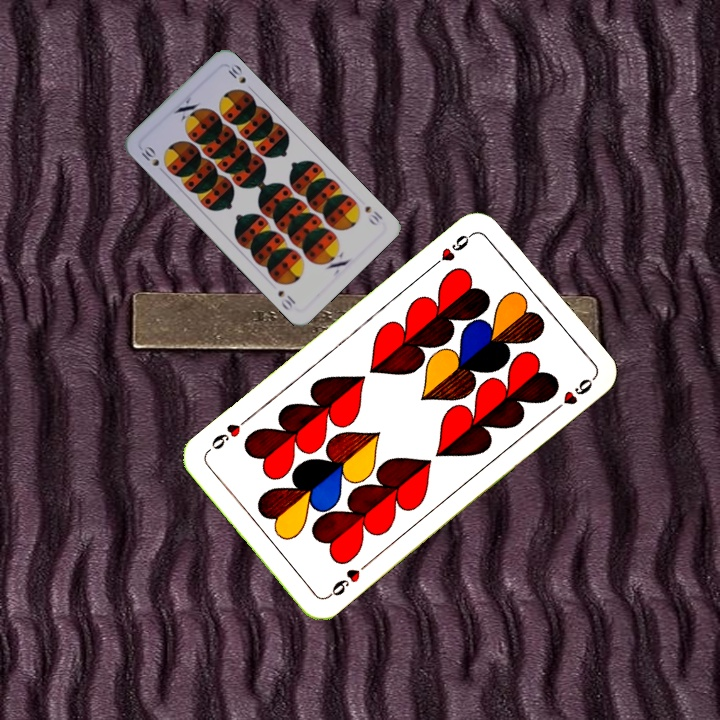H9: (323, 558, 372, 601), (427, 228, 476, 271)
S10: (137, 142, 168, 177), (361, 202, 385, 228)
